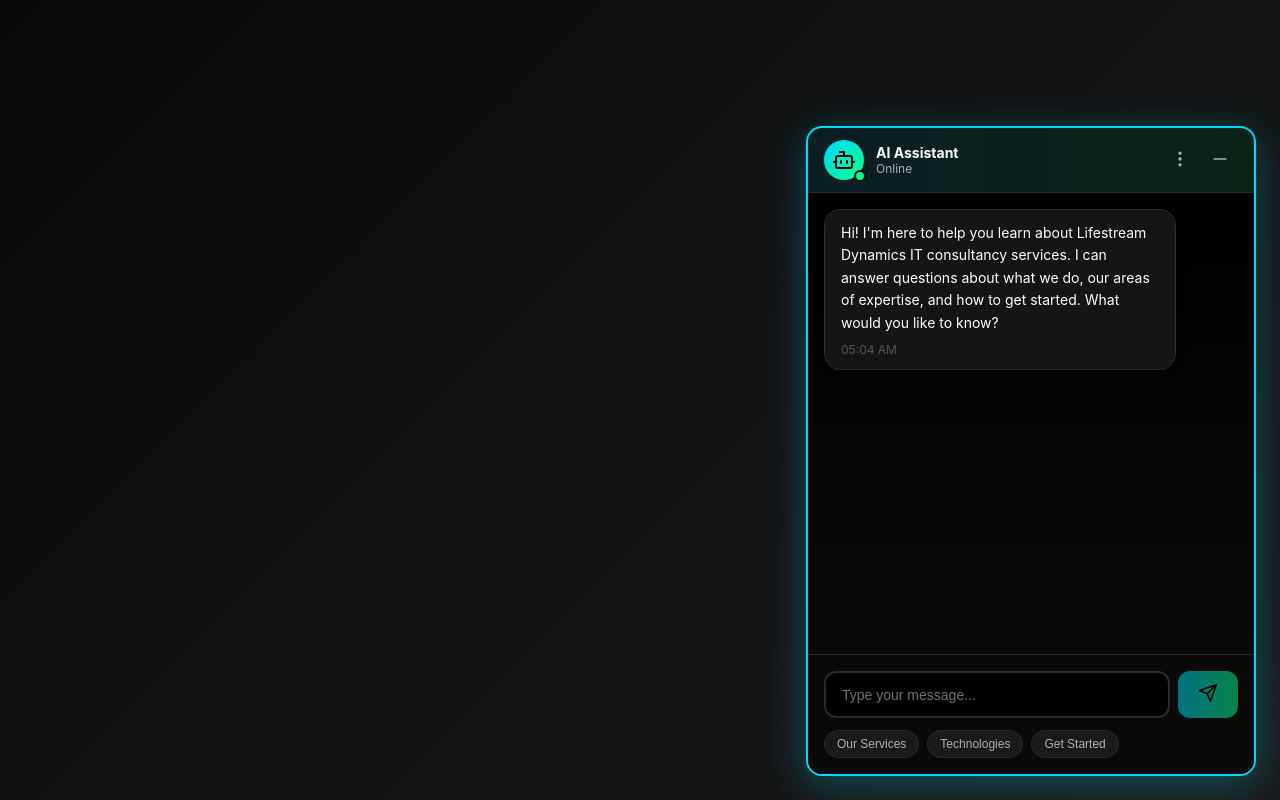
it: ChatBot › Streaming Mode › should display content safety warning in streaming mode
The image size is (1280, 800).
Type "Test message" into the field with placeholder "Type your message..." at coordinates (997, 694), box x1=824 y1=671 x2=1170 y2=718
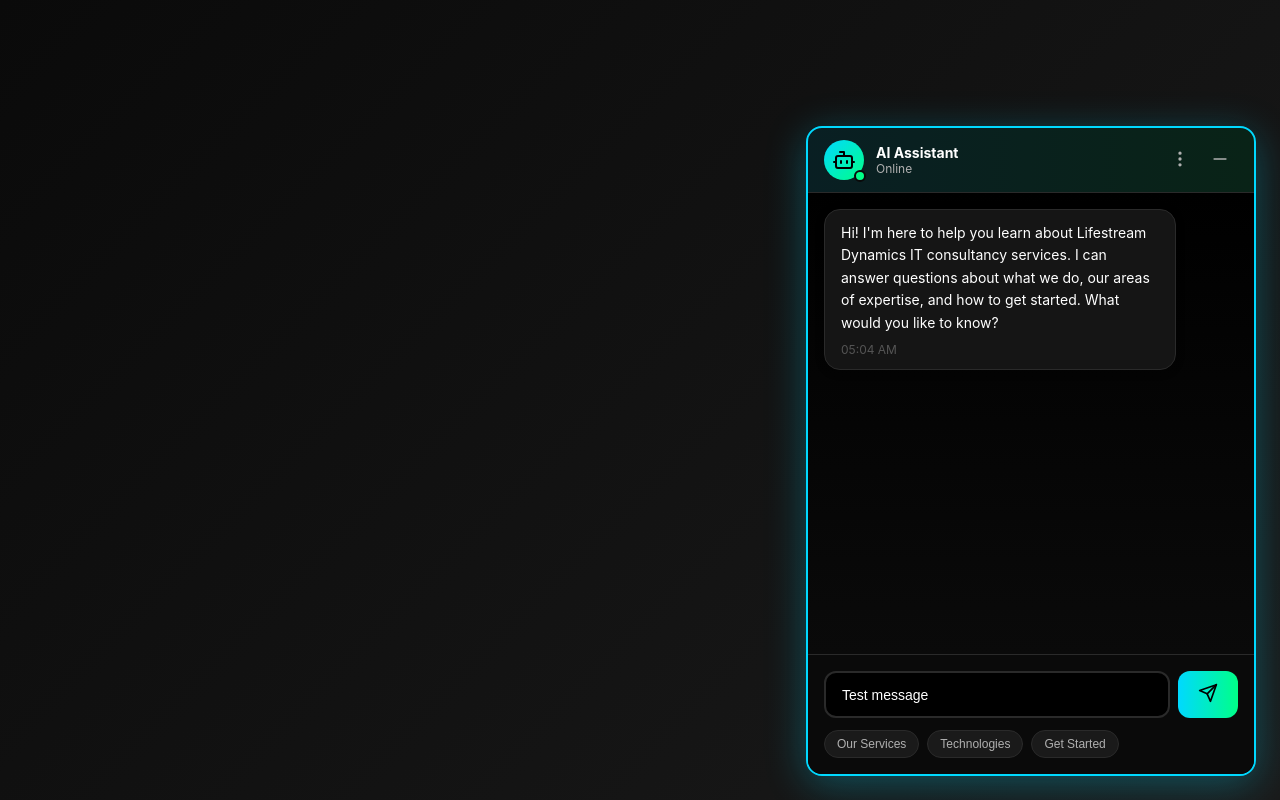
Click the button named "send message" at coordinates (1208, 694), box x1=1178 y1=671 x2=1238 y2=718
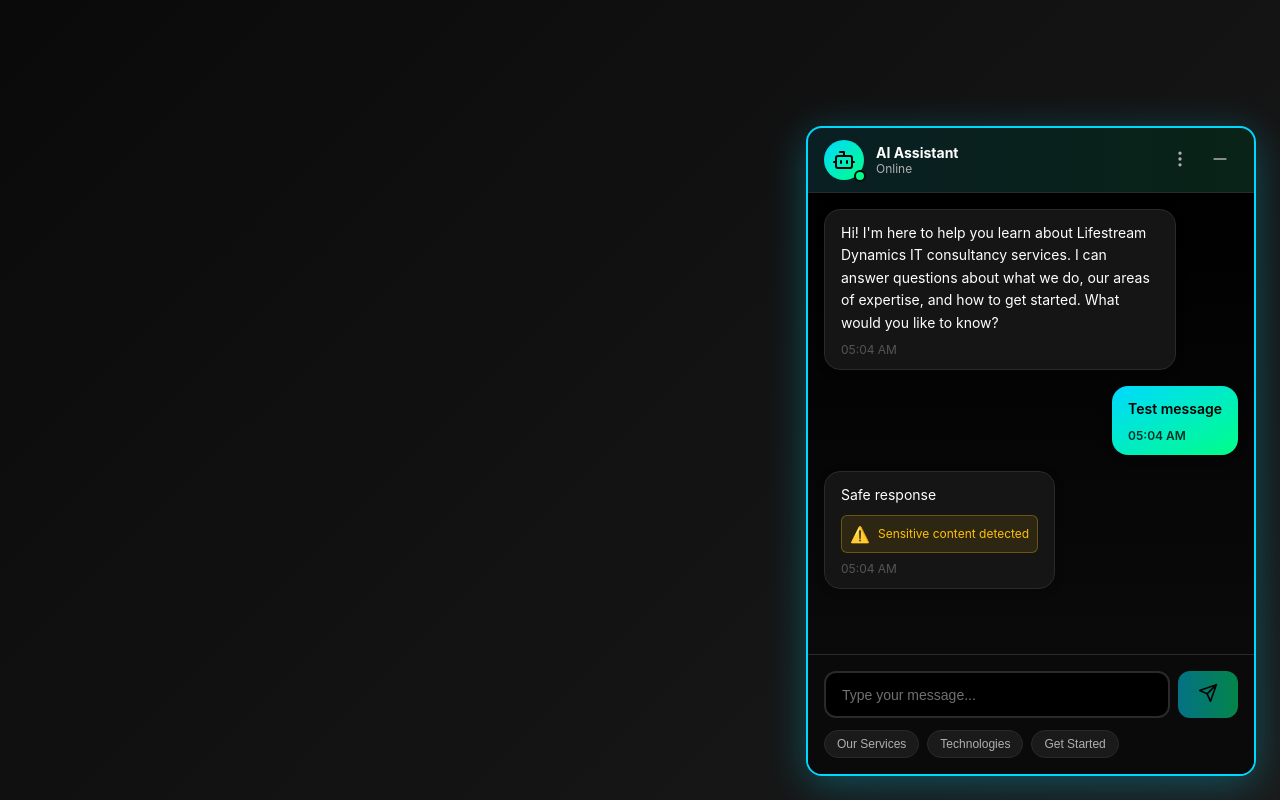
Result: the text "Sensitive content detected" is shown at x1=878 y1=526 x2=1029 y2=542
